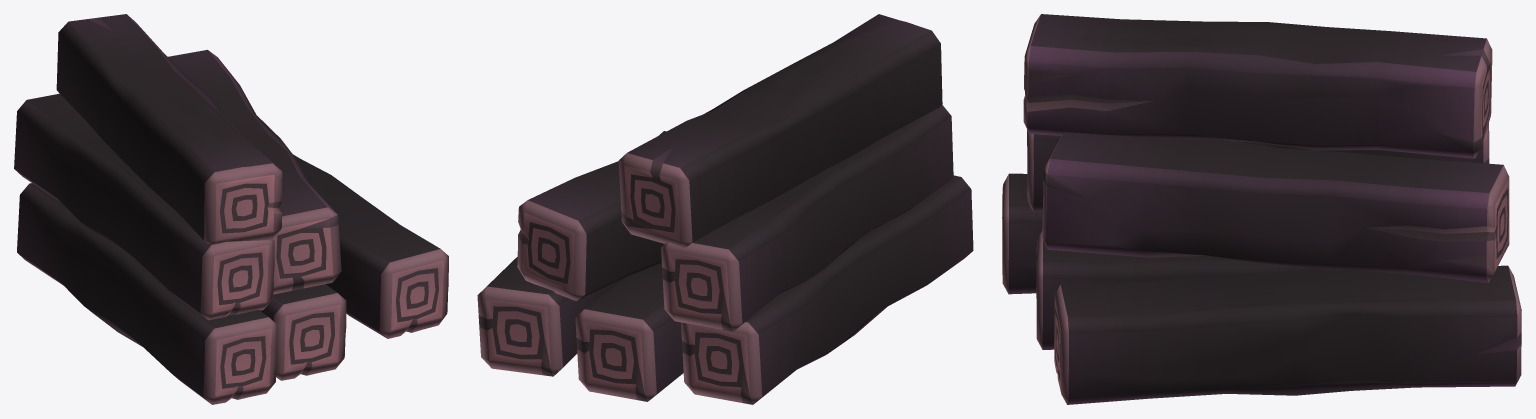
Rendered from undead_wood_pile.fbx.
3 renders of one model, left to right at view 1: azimuth 30°, elevation 25°; view 2: azimuth 150°, elevation 25°; view 3: azimuth 270°, elevation 25°, orthographic. The views are drawn at different scales.
Parts seen in each view (by area): view 1: undead_wood_pile; view 2: undead_wood_pile; view 3: undead_wood_pile.
Part boxes in pixels (left/top/right/bottom): undead_wood_pile: left=14, top=14, right=448, bottom=404; undead_wood_pile: left=477, top=14, right=973, bottom=404; undead_wood_pile: left=1002, top=14, right=1521, bottom=404.
Bounding box in the file's own units: 2.5 × 2.02 × 3.54.
